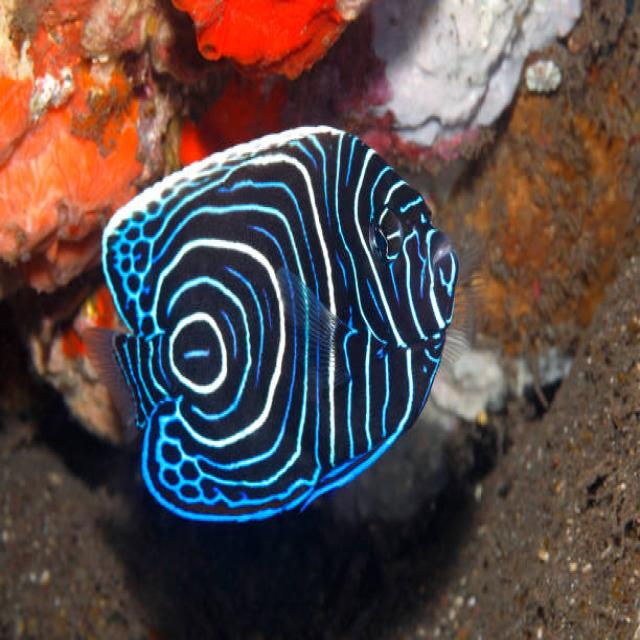AngelFish: (99, 126, 459, 532)
